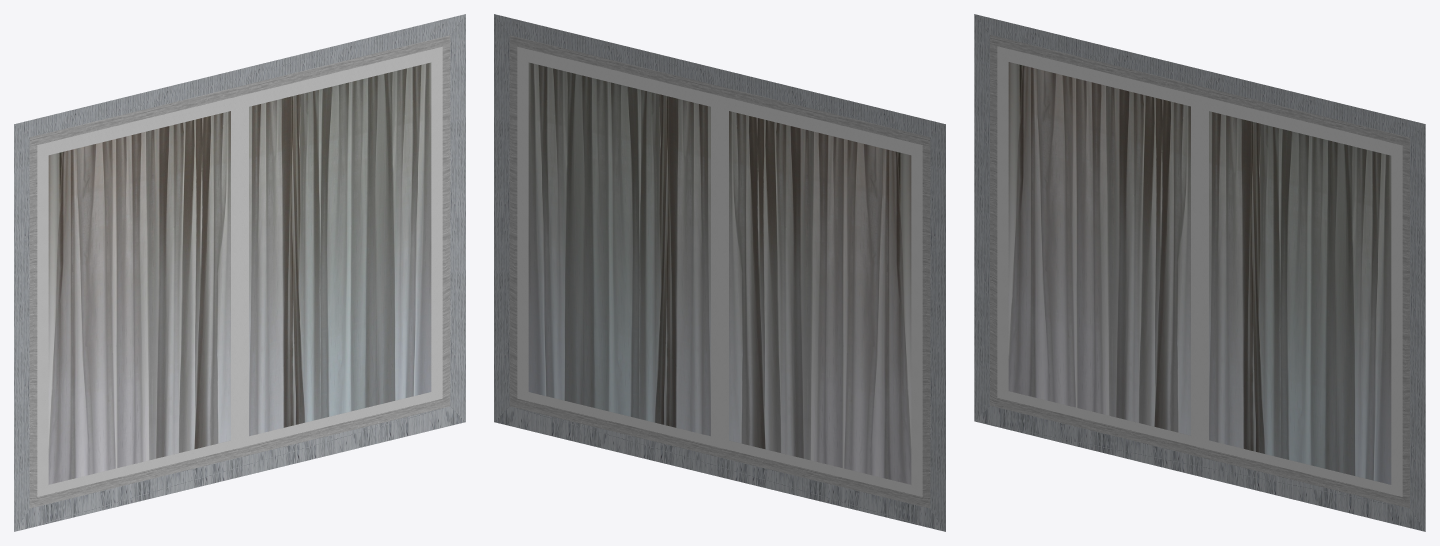
File: Window2.LOD.glb
The picture shows the model from 3 angles, left to right: view 1: azimuth 30°, elevation 25°; view 2: azimuth 150°, elevation 25°; view 3: azimuth 330°, elevation 25°; orthographic projection.
Parts seen in each view (by area): view 1: Cube; view 2: Cube; view 3: Cube.
Part boxes in pixels (box(x1,y1,x2,y2)): Cube: box(14, 14, 465, 531); Cube: box(494, 14, 945, 531); Cube: box(974, 14, 1425, 531).
Size of the model in its own units: 5.4 by 4.66 by 1.49e-08.
Materials: 4 (4 with a texture image).
